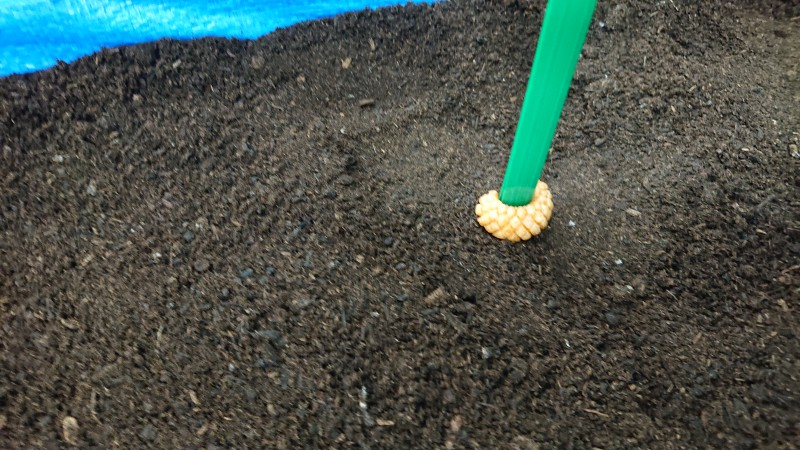eggs: (473, 169, 559, 245)
